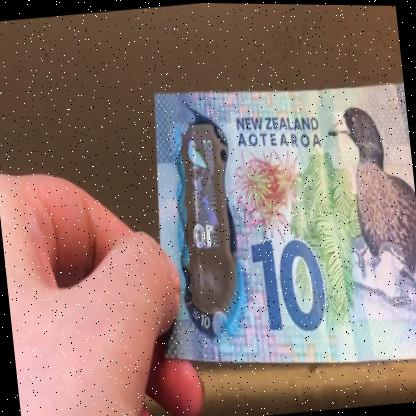10F: (180, 130, 230, 299)
